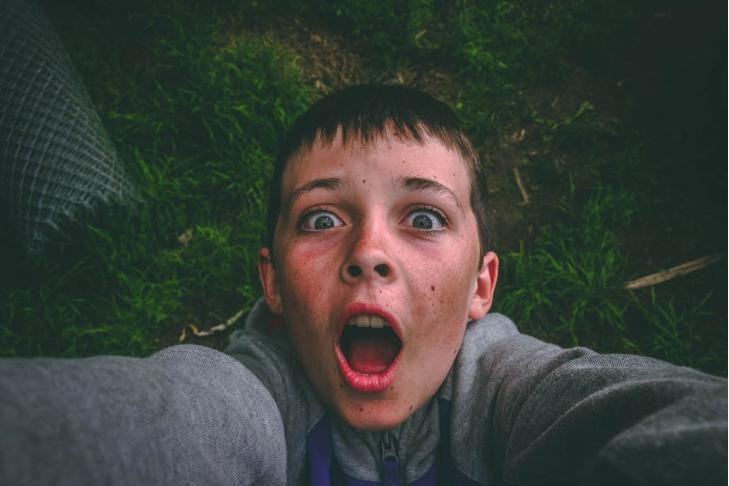face: (279, 131, 471, 428)
